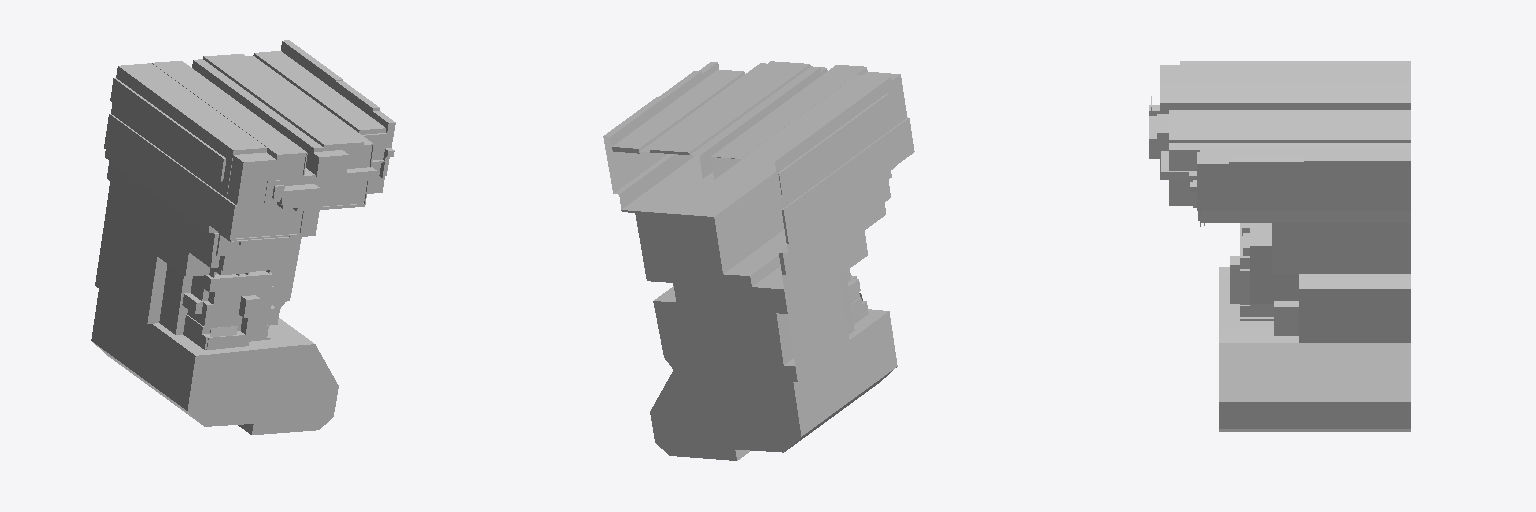
The model's file is Demo_Model.obj.
The picture shows the model from 3 angles: view 1: azimuth 30°, elevation 25°; view 2: azimuth 150°, elevation 25°; view 3: azimuth 270°, elevation 25°; orthographic projection.
Size of the model in its own units: 70.81 by 109 by 81.21.